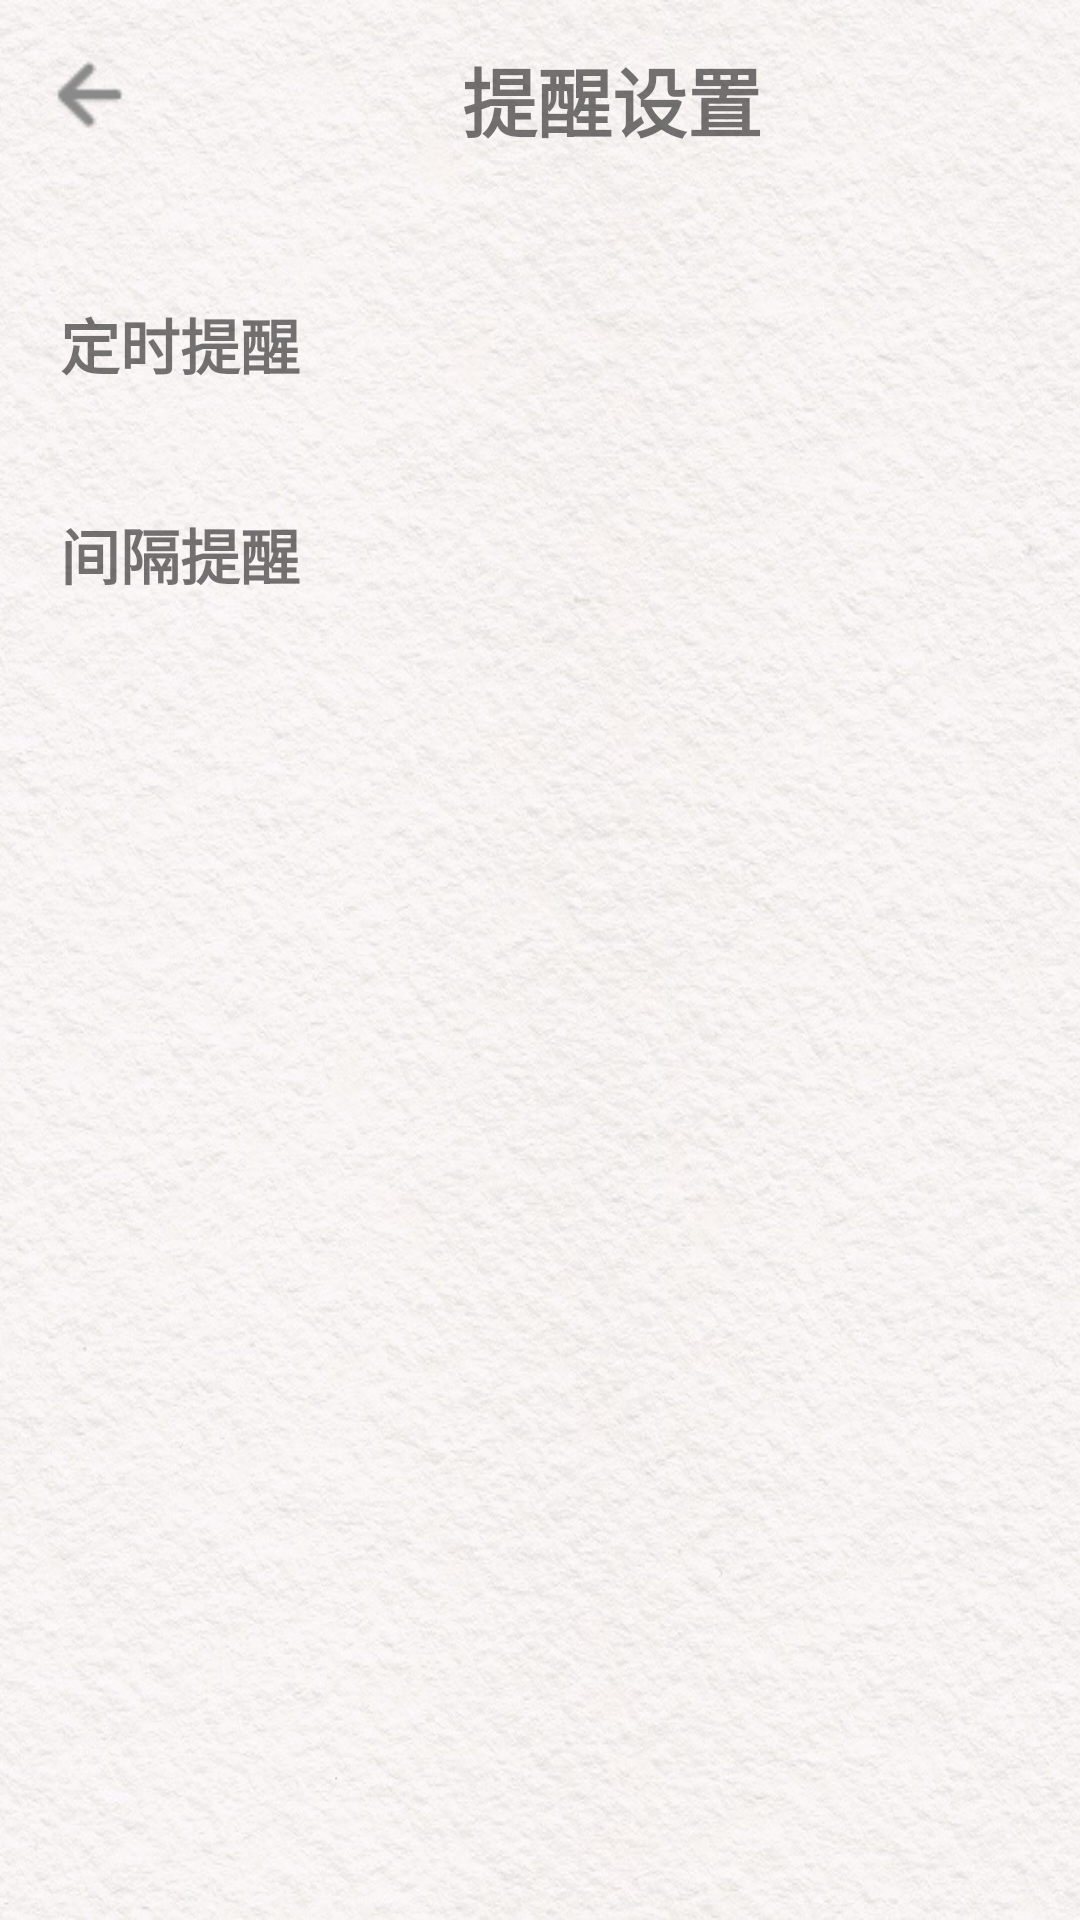

Where icons sit on this 1080w x 1920h app screen, as detection(x1, y1, x2, y2):
back: detection(57, 62, 122, 128)
